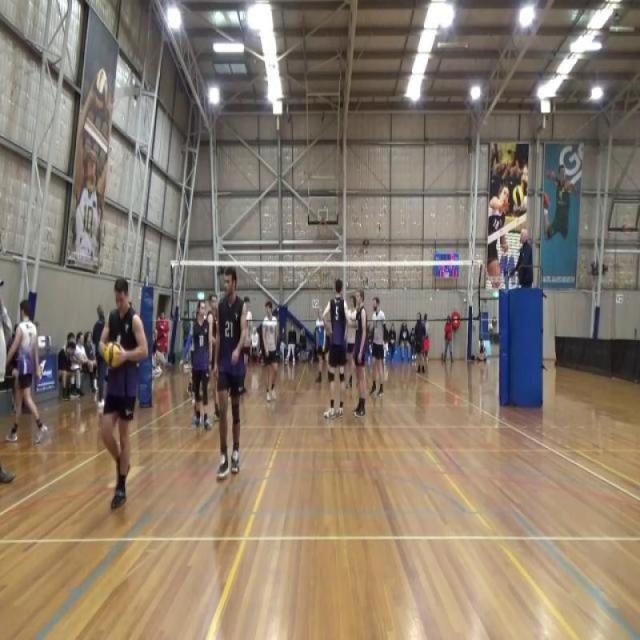volleyball: (105, 338, 124, 369), (95, 67, 108, 112), (512, 184, 525, 208)
